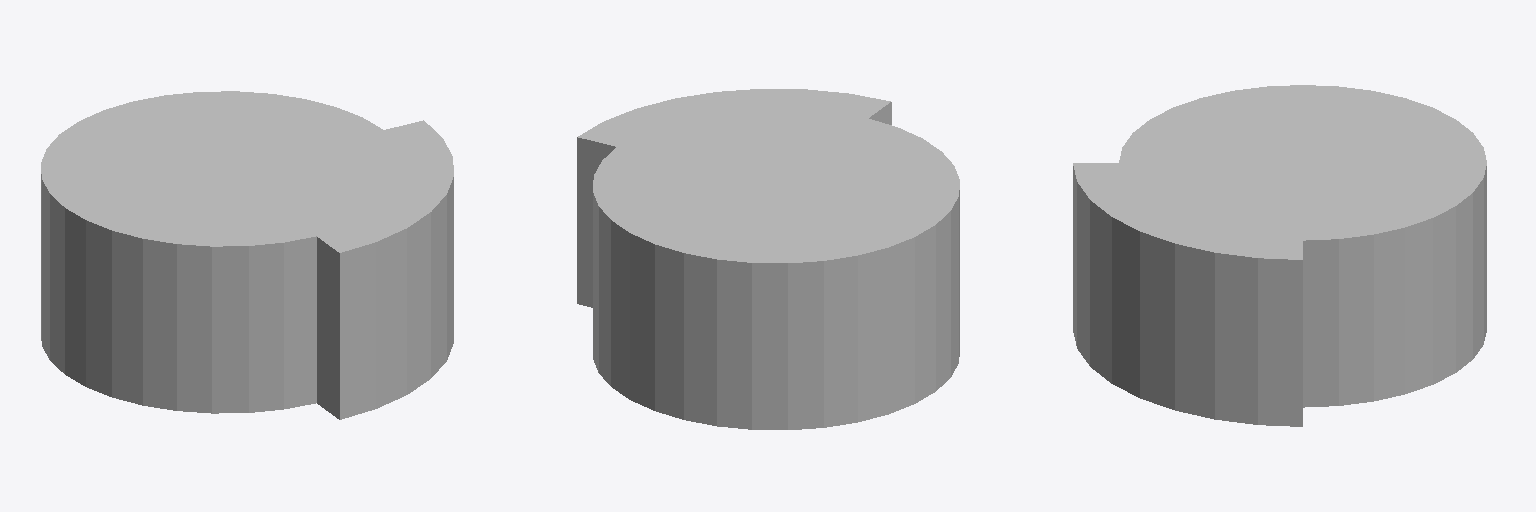
Rendered from zones.obj.
3 views of the same model, side by side, from view 1: azimuth 30°, elevation 25°; view 2: azimuth 150°, elevation 25°; view 3: azimuth 270°, elevation 25° (orthographic).
Visible parts, largest first — view 1: Restricted_Cylinder.004, Approach_Cylinder.003, NoGo.001_Cylinder.009; view 2: Restricted_Cylinder.004, Approach_Cylinder.003, NoGo.001_Cylinder.009; view 3: Restricted_Cylinder.004, Approach_Cylinder.003, NoGo.001_Cylinder.009.
Part boxes in pixels (bbox=[...]): Restricted_Cylinder.004: bbox=[41, 91, 382, 413]; Approach_Cylinder.003: bbox=[304, 120, 453, 419]; NoGo.001_Cylinder.009: bbox=[136, 126, 350, 238]; Restricted_Cylinder.004: bbox=[593, 118, 959, 429]; Approach_Cylinder.003: bbox=[577, 89, 891, 307]; NoGo.001_Cylinder.009: bbox=[687, 116, 902, 227]; Restricted_Cylinder.004: bbox=[1119, 85, 1486, 407]; Approach_Cylinder.003: bbox=[1073, 163, 1302, 426]; NoGo.001_Cylinder.009: bbox=[1120, 125, 1411, 201].
Bounding box in the file's own units: 2.25 × 1 × 2.25.